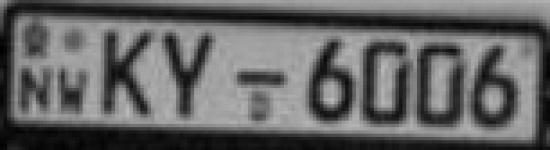-: (232, 65, 292, 91)
0: (358, 35, 416, 129), (415, 36, 468, 132)
6: (468, 36, 521, 133), (304, 33, 358, 125)
K: (99, 26, 158, 120)
N: (18, 62, 54, 116)
W: (56, 63, 92, 117)
Y: (158, 27, 223, 121)
